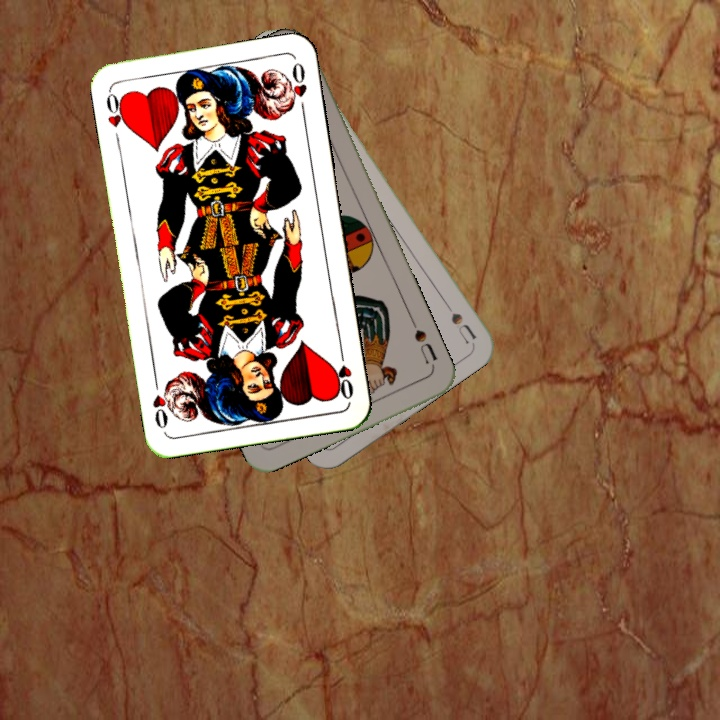HO: (329, 344, 356, 402), (102, 87, 131, 131)
SU: (436, 291, 479, 345), (407, 316, 440, 366)
